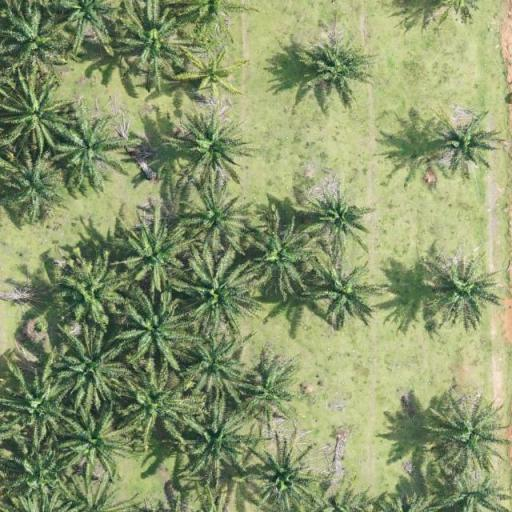Ganoderma: (260, 454, 310, 500), (192, 54, 238, 100), (440, 266, 486, 310), (440, 122, 486, 165), (313, 194, 358, 236)
